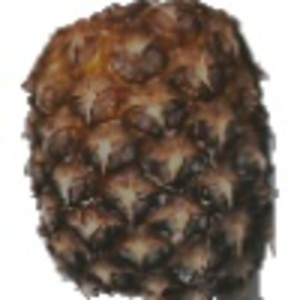abacaxi: (13, 3, 284, 293)
